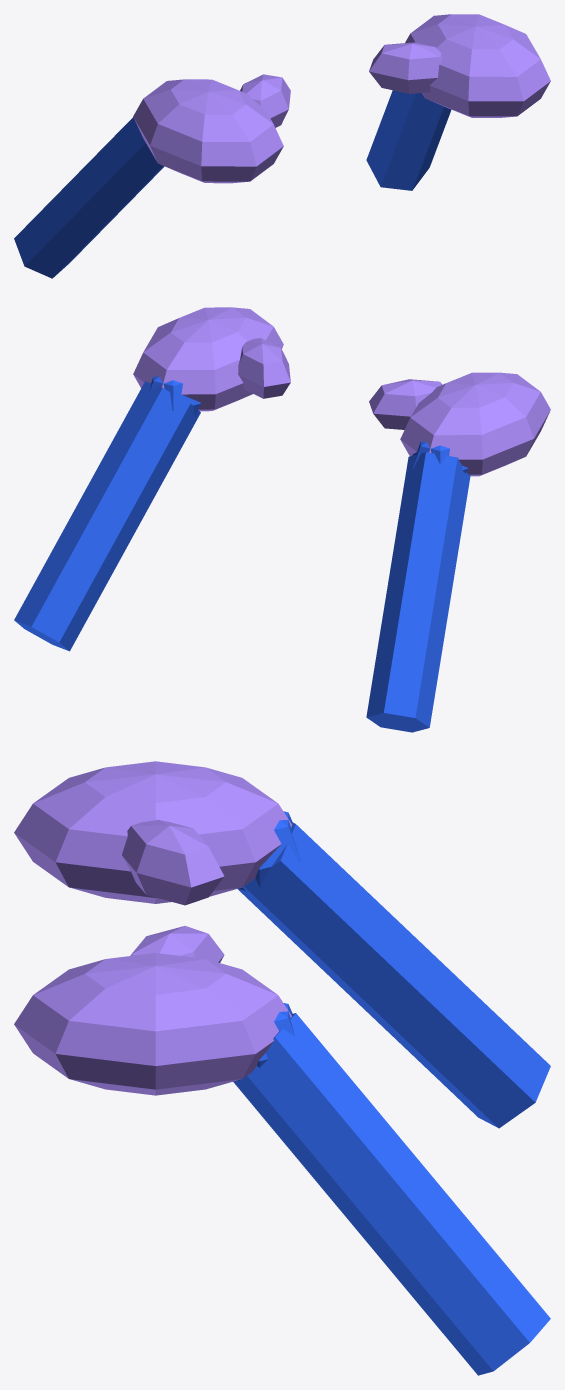
File: cop_hands_3.glb
The picture shows the model from 3 angles, top to bottom: view 1: azimuth 30°, elevation 25°; view 2: azimuth 150°, elevation 25°; view 3: azimuth 270°, elevation 25°; orthographic projection. The views are drawn at different scales.
Visible parts, largest first — view 1: hand_skin_violeta, arms_shirt; view 2: arms_shirt, hand_skin_violeta; view 3: arms_shirt, hand_skin_violeta.
Boxes of the visible parts, box(x1,y1,x2,y2) form: hand_skin_violeta: box(133, 14, 550, 183); arms_shirt: box(14, 90, 451, 278); arms_shirt: box(14, 376, 470, 732); hand_skin_violeta: box(133, 307, 550, 476); arms_shirt: box(233, 811, 550, 1375); hand_skin_violeta: box(14, 761, 291, 1095).
Size of the model in its own units: 0.7283 by 0.4397 by 0.5685.
